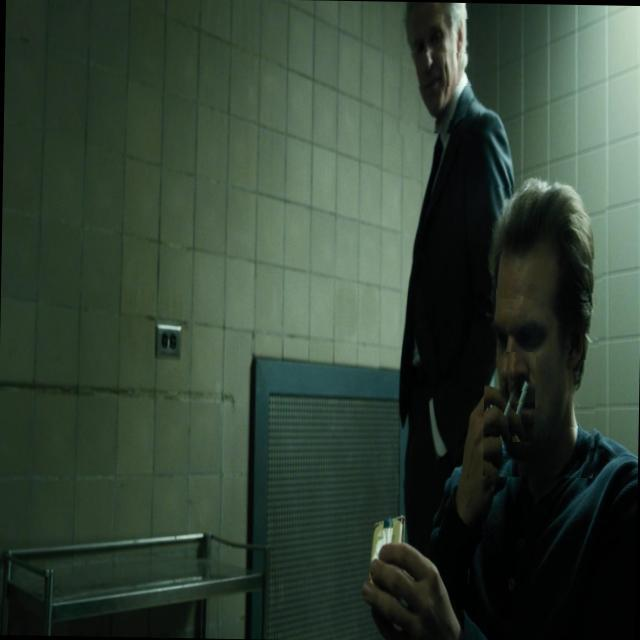cigarette: (504, 351, 535, 442)
